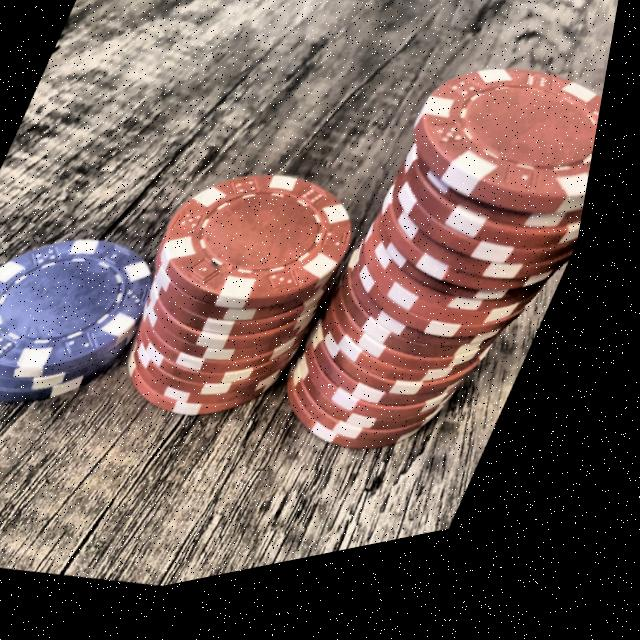Chip: (267, 46, 620, 522), (94, 143, 397, 472), (0, 196, 193, 449)
